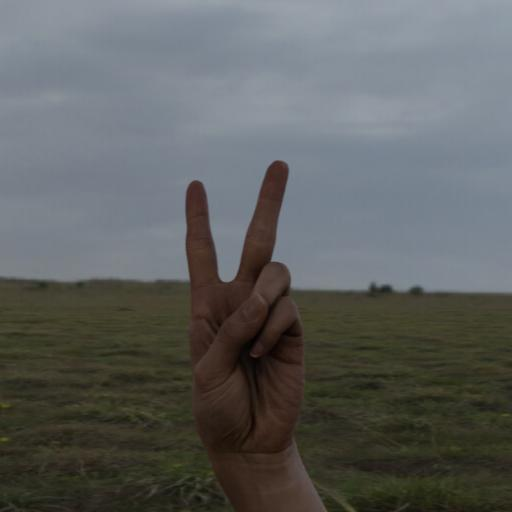V: (170, 152, 317, 473)
